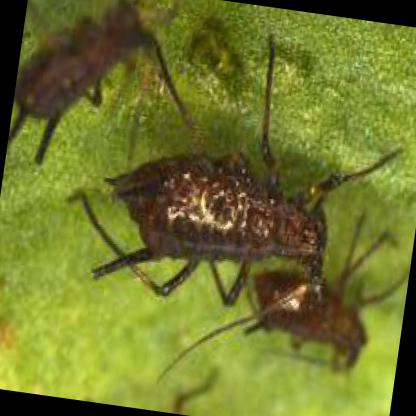uroleucon compositae: (89, 32, 398, 306)
